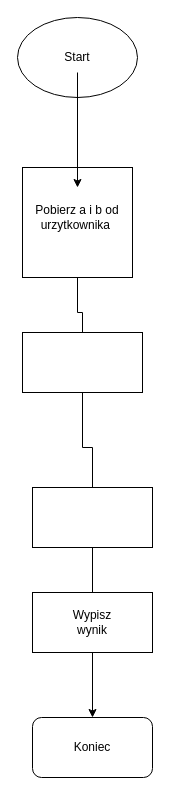
Some shapes in this 170 by 795 pixel diagram are drawn without their labels. The box of each missing label's shape, as (x1, y1, x2, y2) in pixels:
Podziel b przez a: (22, 332, 142, 392)
pomnóż przez -1: (32, 486, 152, 548)
